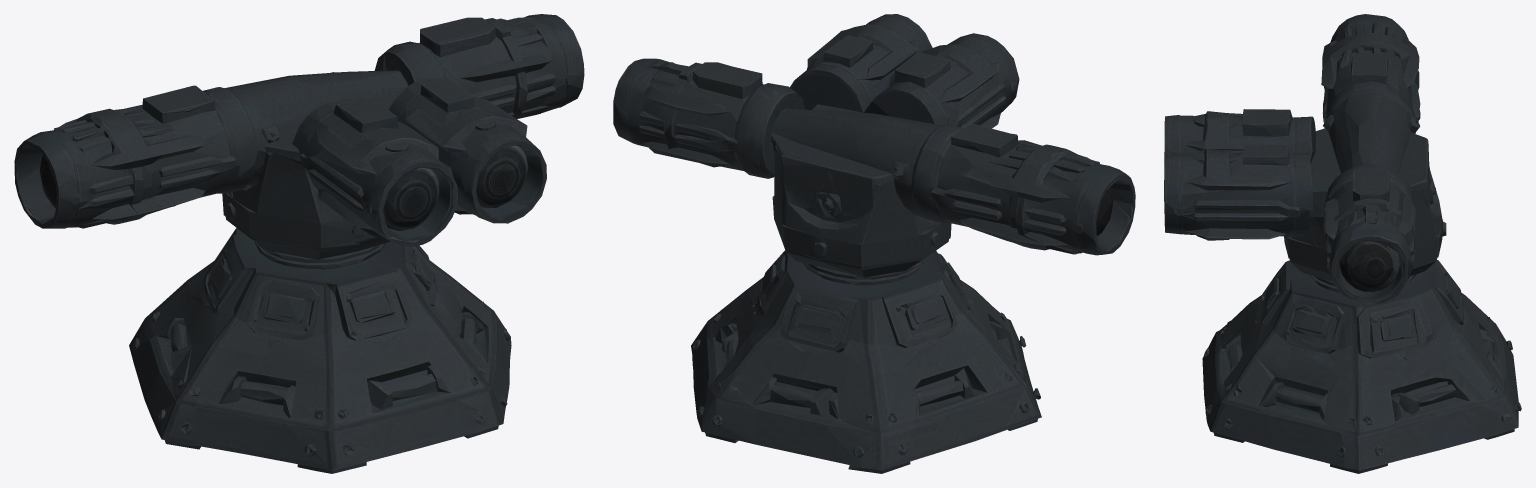
The model's file is b_turret.glb.
3 views of the same model, side by side, from view 1: azimuth 30°, elevation 25°; view 2: azimuth 150°, elevation 25°; view 3: azimuth 270°, elevation 25° (orthographic). The views are drawn at different scales.
Size of the model in its own units: 1.9 by 1.11 by 1.3.
Materials: 1 (1 with a texture image).
